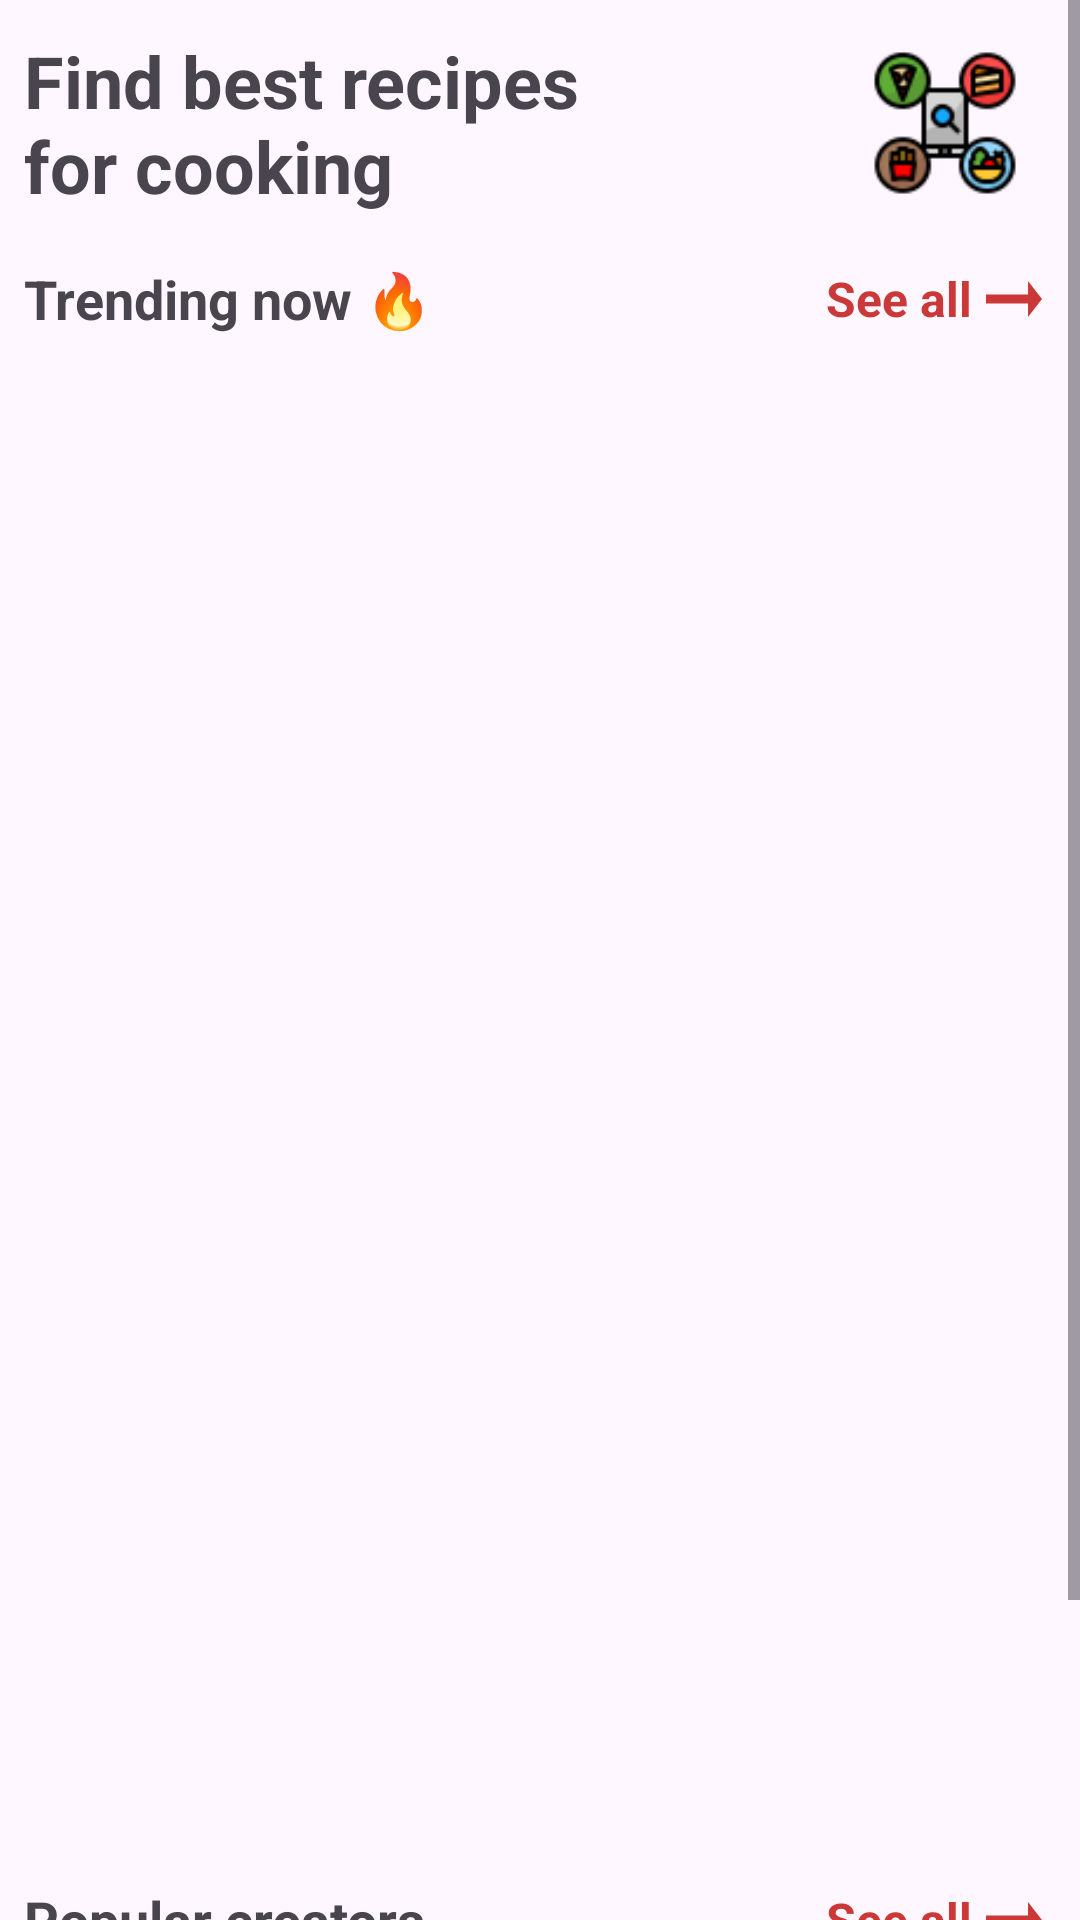

Icons on this 1080 × 1920 Android screen, each with its box as (x1, y1, x2, y2):
food app: (874, 52, 1016, 194)
